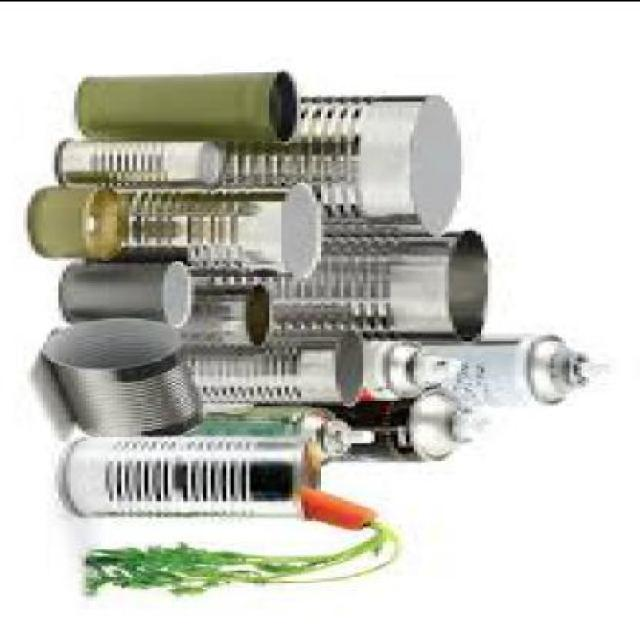metal: (188, 232, 492, 345), (226, 97, 460, 238), (113, 185, 324, 280), (48, 318, 208, 438), (70, 440, 308, 520), (83, 74, 305, 141), (188, 330, 366, 404), (417, 337, 558, 405), (63, 260, 195, 328), (59, 140, 226, 189), (343, 392, 452, 463), (35, 188, 134, 263), (208, 411, 340, 463), (191, 288, 274, 349), (360, 342, 426, 400)
